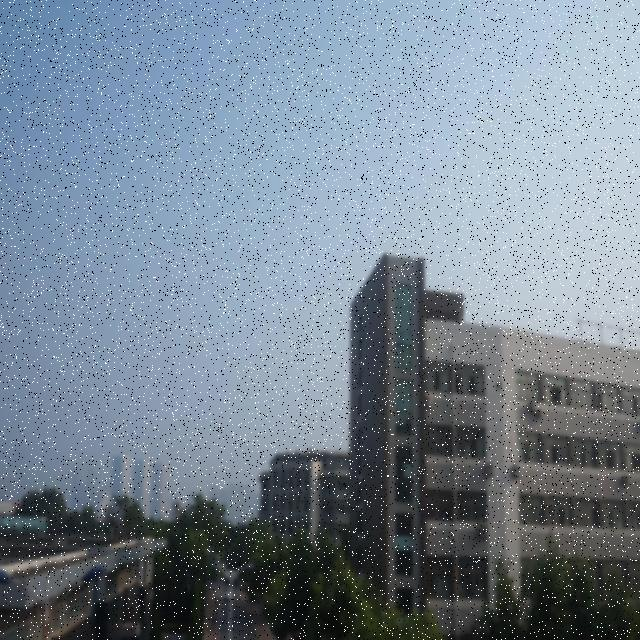UAV: (494, 382, 503, 392)
